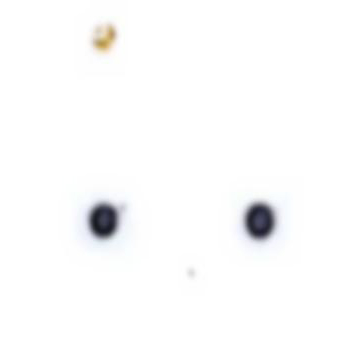abnormal: (75, 11, 134, 67)
cancer: (75, 183, 143, 257), (227, 185, 295, 253)
